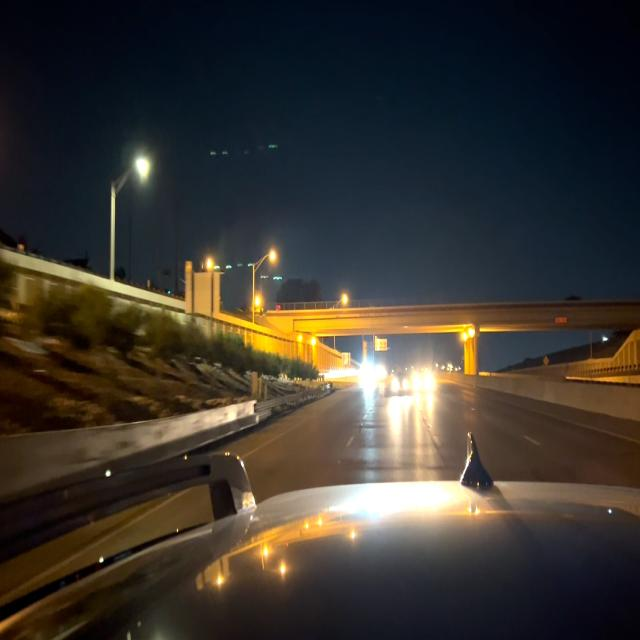back-of-sign: (185, 272, 219, 313), (185, 259, 192, 272)
